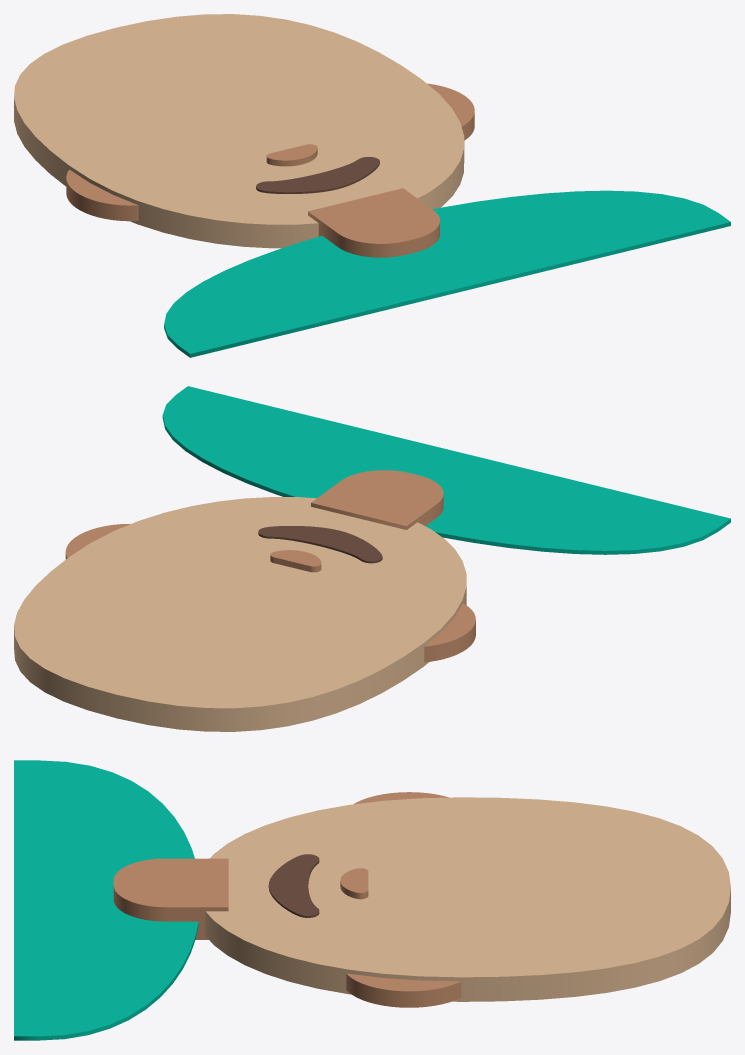
The model's file is emoji_u1f468_1f3fc_200d_1f9b2.glb.
3 views of the same model, one above another, from view 1: azimuth 30°, elevation 25°; view 2: azimuth 150°, elevation 25°; view 3: azimuth 270°, elevation 25° (orthographic). The views are drawn at different scales.
Visible parts, largest first — view 1: emoji_u1f468_1f3fc_200d_1f9b2; view 2: emoji_u1f468_1f3fc_200d_1f9b2; view 3: emoji_u1f468_1f3fc_200d_1f9b2.
Part boxes in pixels (x1=…): emoji_u1f468_1f3fc_200d_1f9b2: x1=14, y1=14, x2=730, y2=357; emoji_u1f468_1f3fc_200d_1f9b2: x1=14, y1=386, x2=730, y2=731; emoji_u1f468_1f3fc_200d_1f9b2: x1=14, y1=760, x2=730, y2=1040.
Size of the model in its own units: 0.0289 by 0.0018 by 0.0317.
